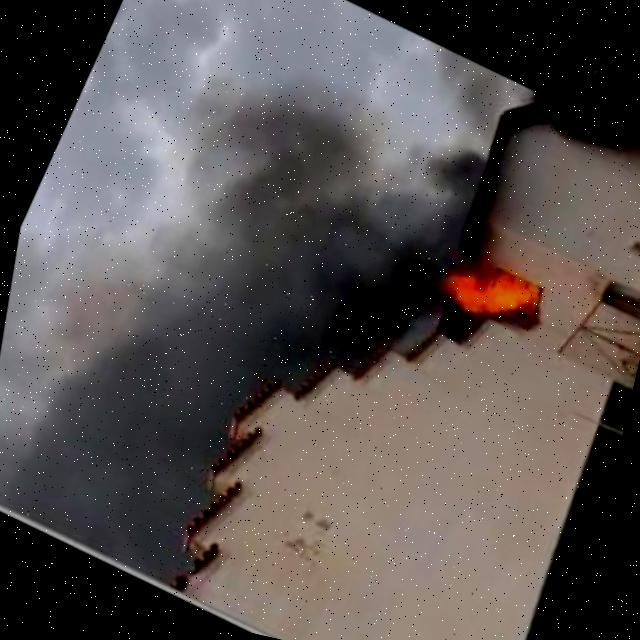fire: (409, 228, 551, 349)
